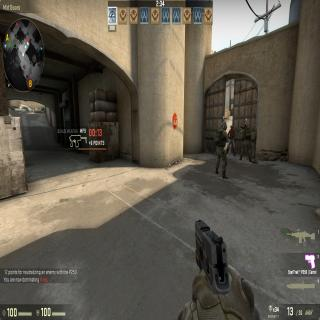CT-Body: (215, 120, 227, 177), (241, 122, 251, 162)
CT-Head: (220, 120, 226, 131), (243, 122, 250, 128)
T-Body: (227, 124, 235, 157)
T-Head: (230, 124, 234, 130)
